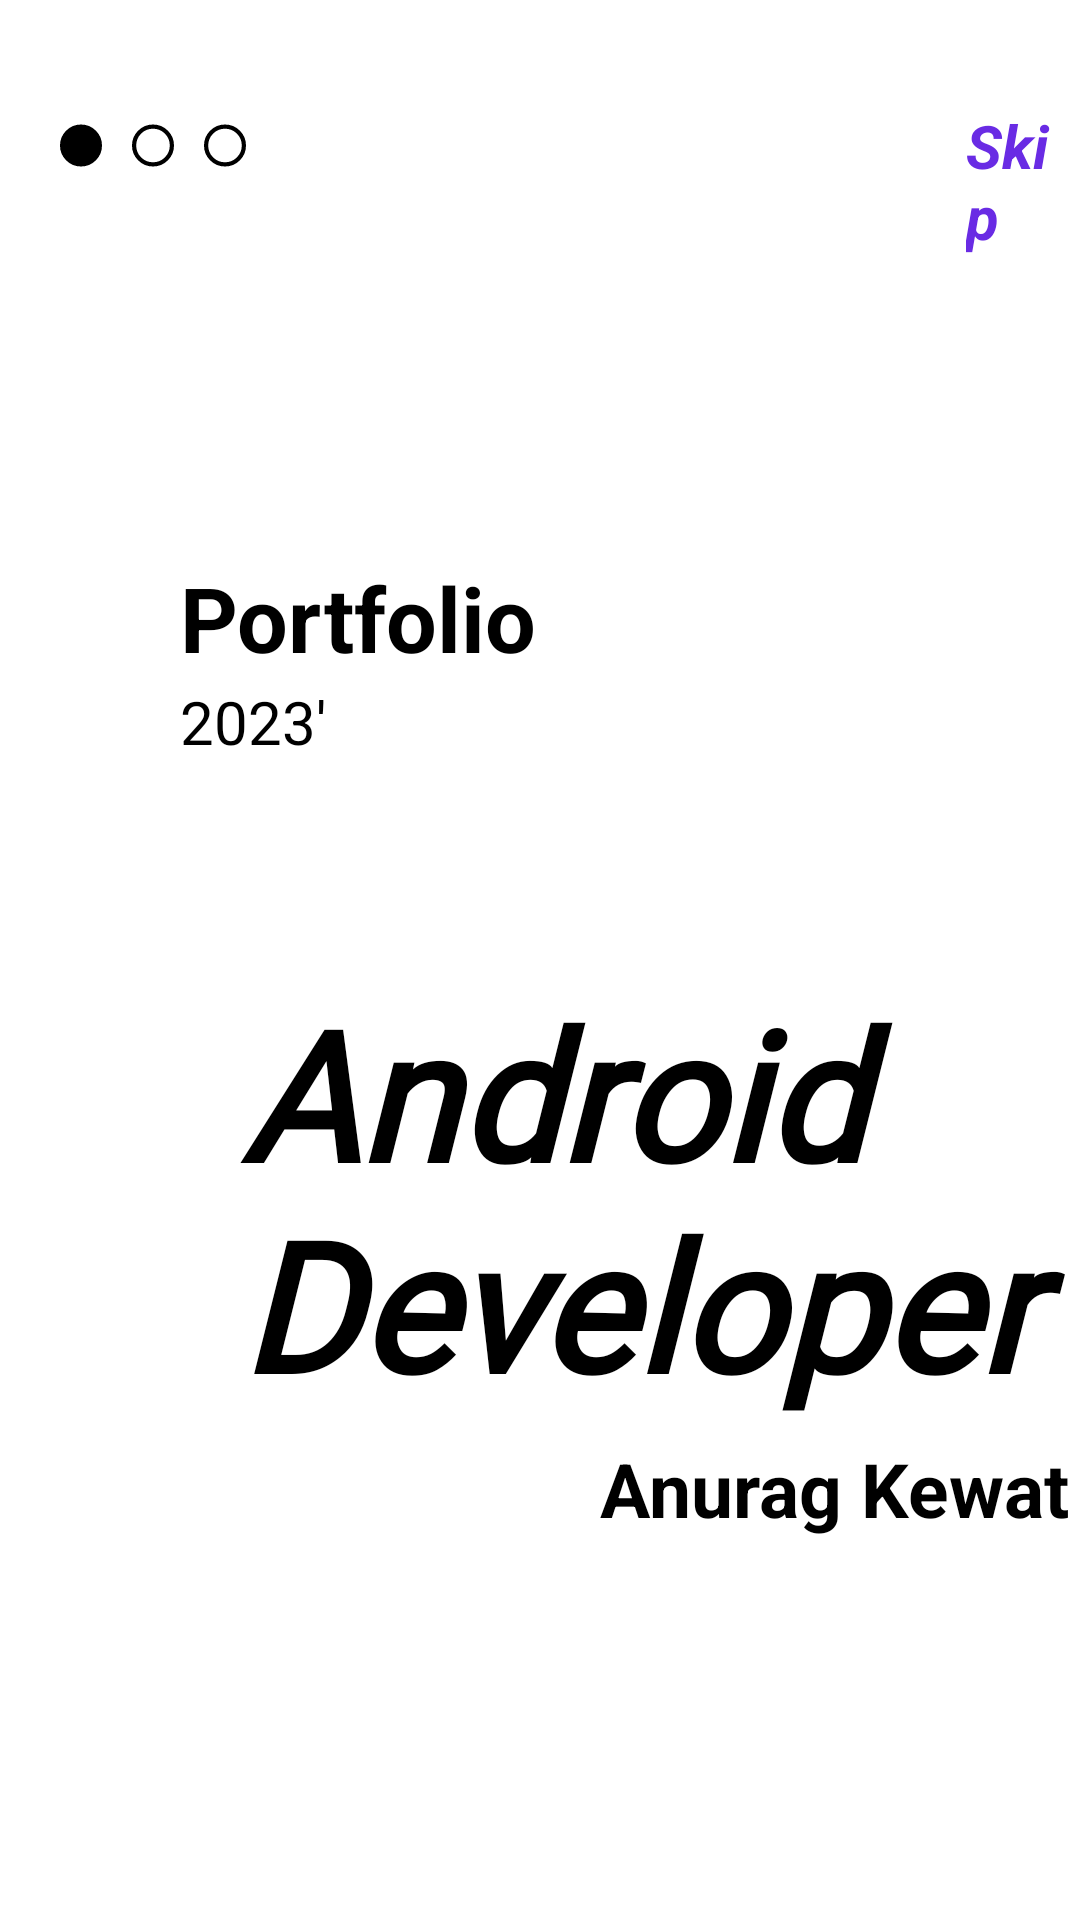

Locate icon controls on the screen. Image size 1080px×1920px, boxes as Rect(x1, y1, x2, y2).
circle: Rect(60, 124, 102, 167), Rect(132, 124, 174, 167), Rect(204, 124, 246, 167)
